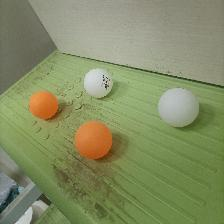WhiteBall: (157, 87, 198, 126), (82, 68, 112, 97)
YellowBall: (74, 120, 112, 159), (27, 90, 57, 119)
